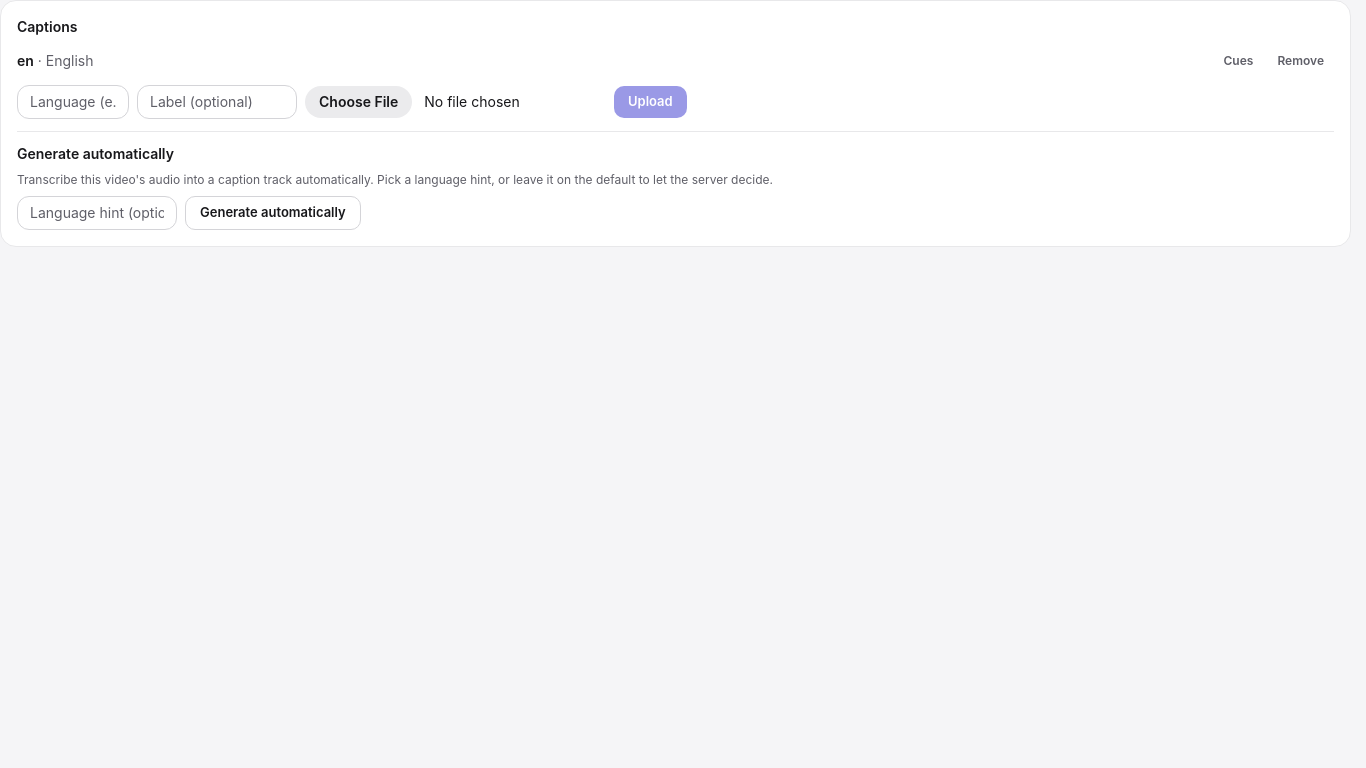
Test: CaptionsManager cue editor › opens the cue editor for a track from its row
The width and height of the screenshot is (1366, 768).
Click the button with aria-label "Open en cue editor": (1238, 61) [1214, 49, 1263, 73]
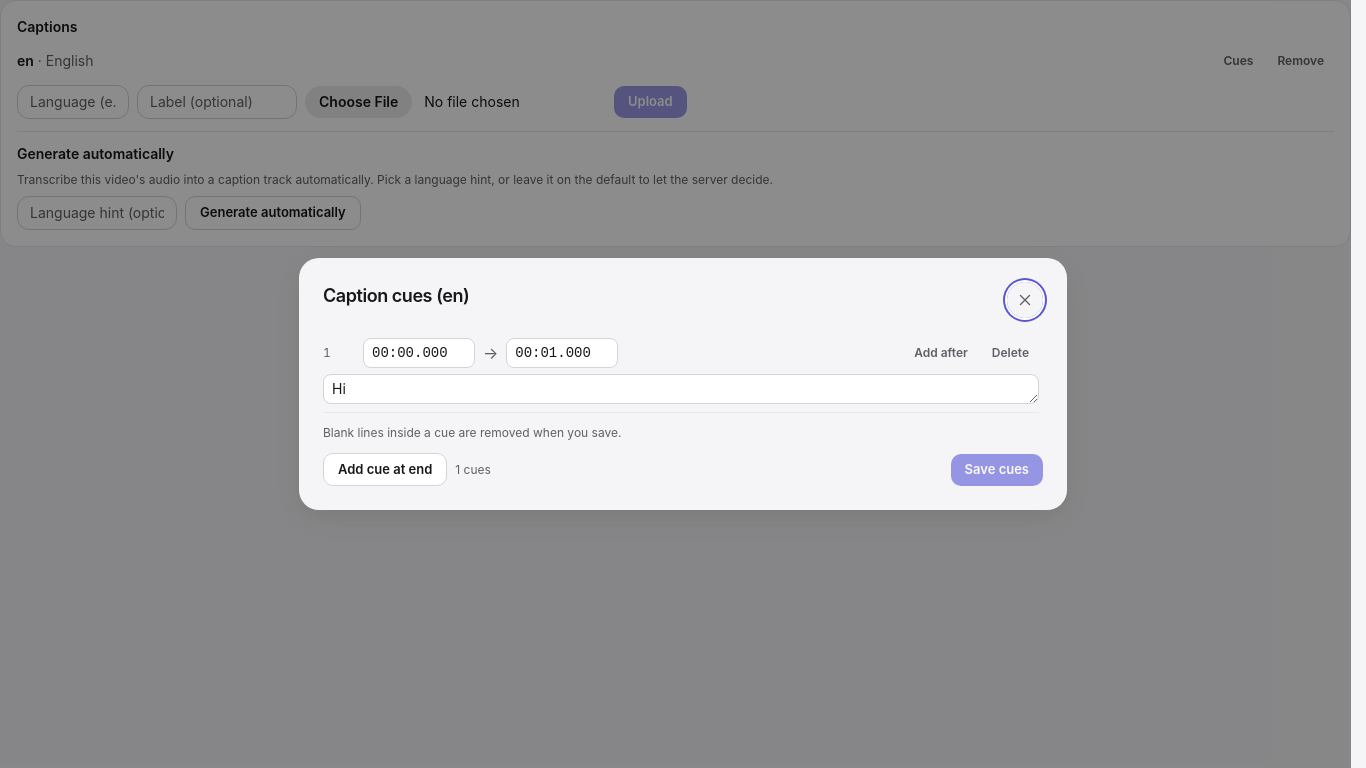
expect the text box named "Cue 1 text" holds "Hi": met, box [323, 374, 1039, 404]
